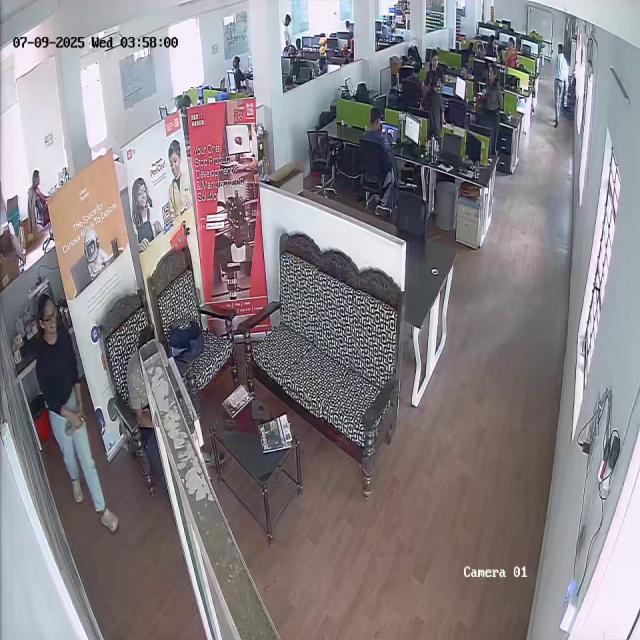person: (28, 292, 114, 541), (353, 110, 395, 217), (481, 65, 503, 156), (417, 72, 445, 137), (550, 42, 570, 132), (29, 168, 52, 220)
